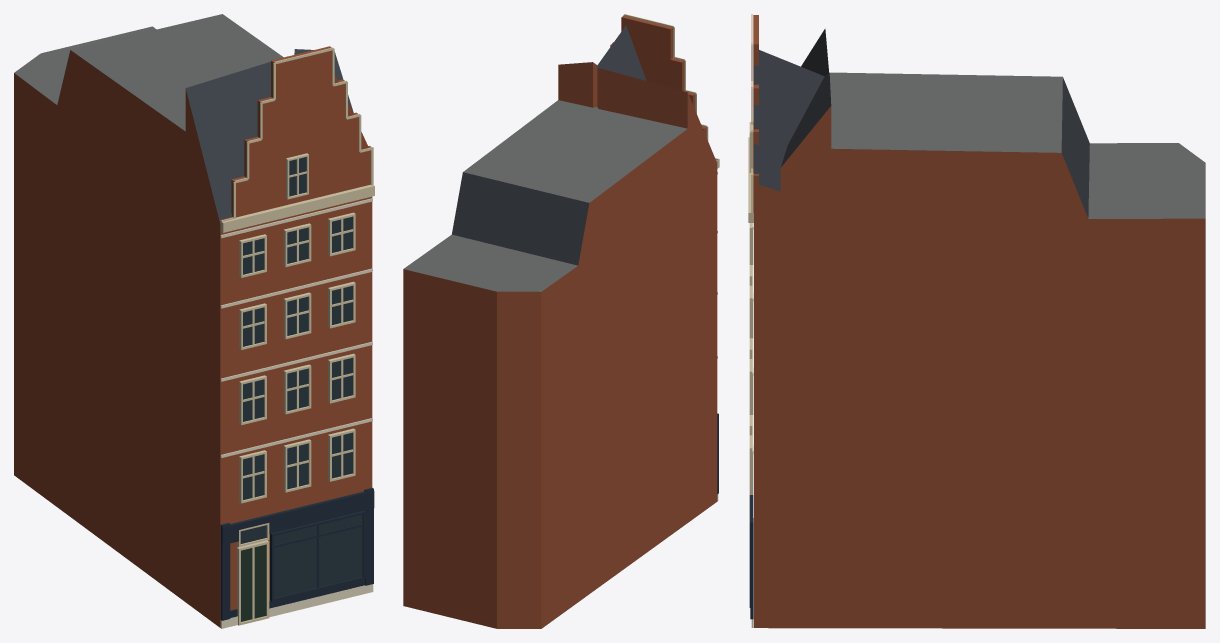
The model's file is recipe-bilder-155418.glb.
The picture shows the model from 3 angles, left to right: view 1: azimuth 30°, elevation 25°; view 2: azimuth 150°, elevation 25°; view 3: azimuth 270°, elevation 25°; orthographic projection. The views are drawn at different scales.
Parts seen in each view (by area): view 1: bilder-155418; view 2: bilder-155418; view 3: bilder-155418.
Part boxes in pixels (x1,y1,x2,y2): bilder-155418: (14,14,374,628); bilder-155418: (403,14,719,628); bilder-155418: (748,14,1205,628).
Bounding box in the file's own units: 5.65 × 19.48 × 14.29.
